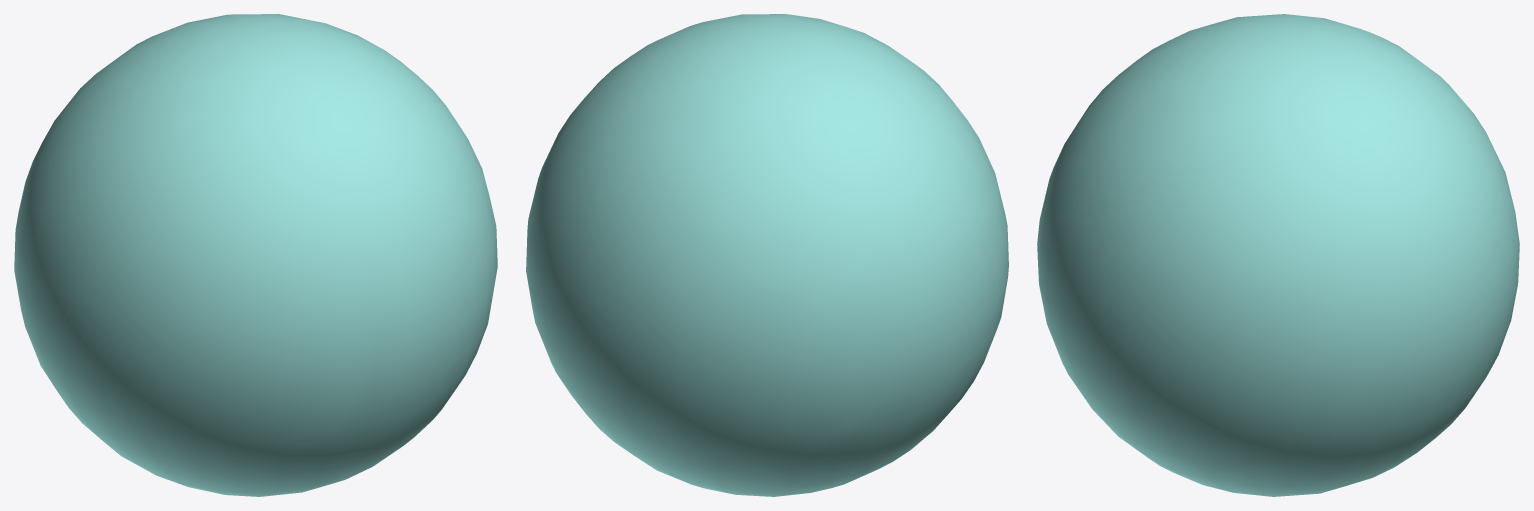
File: blue-oxygen-decimated.fbx
The picture shows the model from 3 angles, left to right: view 1: azimuth 30°, elevation 25°; view 2: azimuth 150°, elevation 25°; view 3: azimuth 270°, elevation 25°; orthographic projection.
Parts seen in each view (by area): view 1: Body1; view 2: Body1; view 3: Body1.
Part boxes in pixels (x1,y1,x2,y2): Body1: [14, 14, 497, 496]; Body1: [526, 14, 1008, 496]; Body1: [1037, 14, 1519, 496].
Bounding box in the file's own units: 9.99 × 10 × 10.
